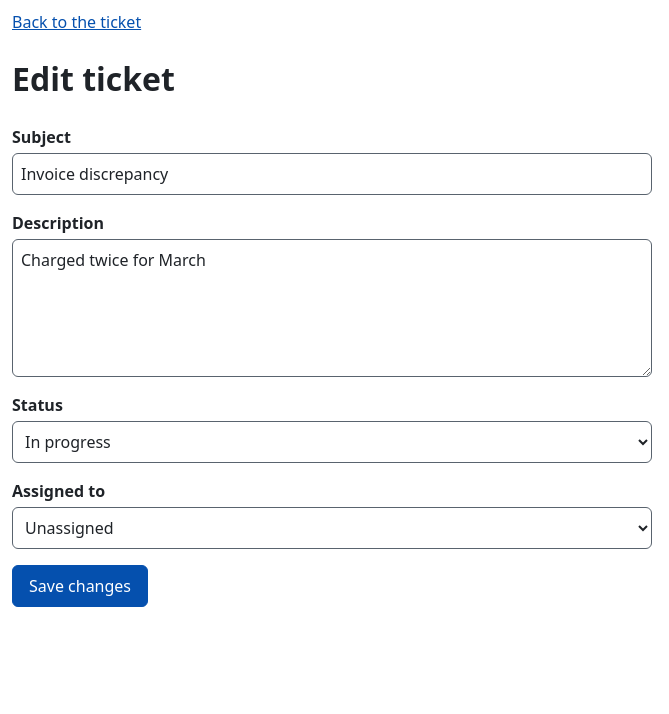
Test case: EditTicketPage › stays on the form and shows the error when saving fails
This screenshot has width=669, height=714.
Click the button "Save changes" at (80, 586), box [12,565,148,607]
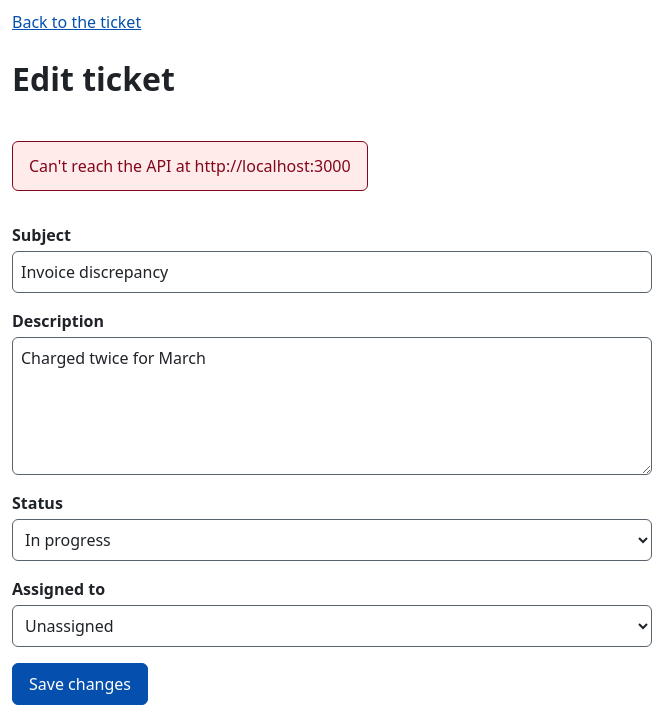
expect the heading "Edit ticket" is shown: met, box [12,57,175,100]
expect the message shows "Can't reach the API": met, box [29,155,351,177]
